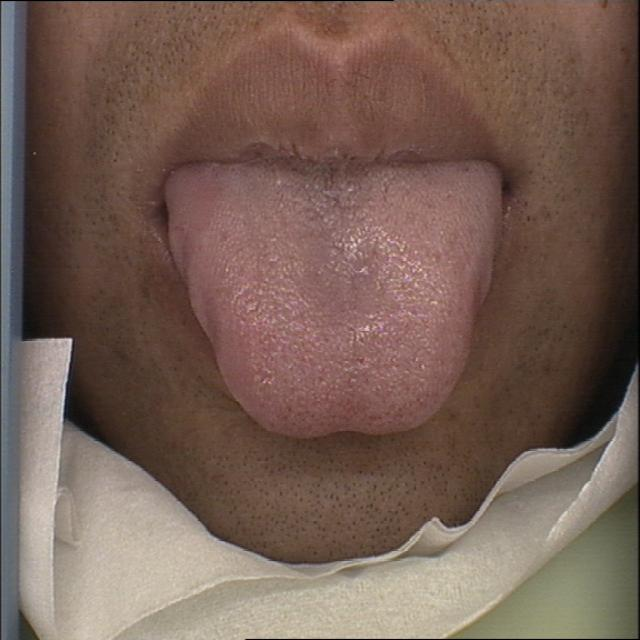tongue: (150, 149, 509, 443)
